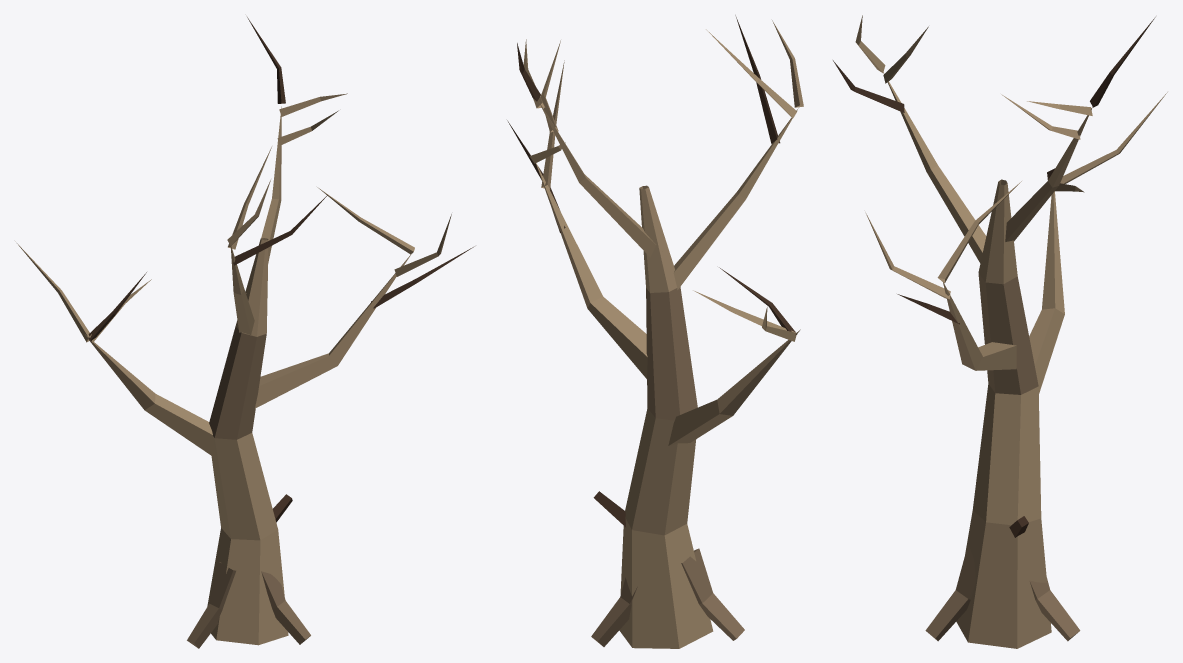
File: tree_dead.glb
The picture shows the model from 3 angles, left to right: view 1: azimuth 30°, elevation 25°; view 2: azimuth 150°, elevation 25°; view 3: azimuth 270°, elevation 25°; orthographic projection. The views are drawn at different scales.
Parts seen in each view (by area): view 1: Trunk, Canopy; view 2: Trunk, Canopy; view 3: Trunk, Canopy.
Boxes of the visible parts, <box> form: Trunk: <box>83,106,411,648</box>; Canopy: <box>15,17,474,342</box>; Trunk: <box>536,100,800,648</box>; Canopy: <box>507,15,803,341</box>; Trunk: <box>883,72,1092,648</box>; Canopy: <box>833,15,1167,324</box>.
Size of the model in its own units: 4.66 by 7.13 by 3.34.
